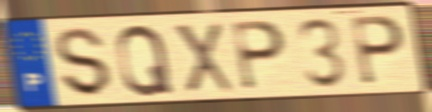3: (297, 16, 348, 90)
P: (229, 19, 288, 93), (349, 14, 407, 88)
Q: (114, 22, 176, 98)
S: (53, 26, 114, 99)
X: (170, 21, 237, 95)
